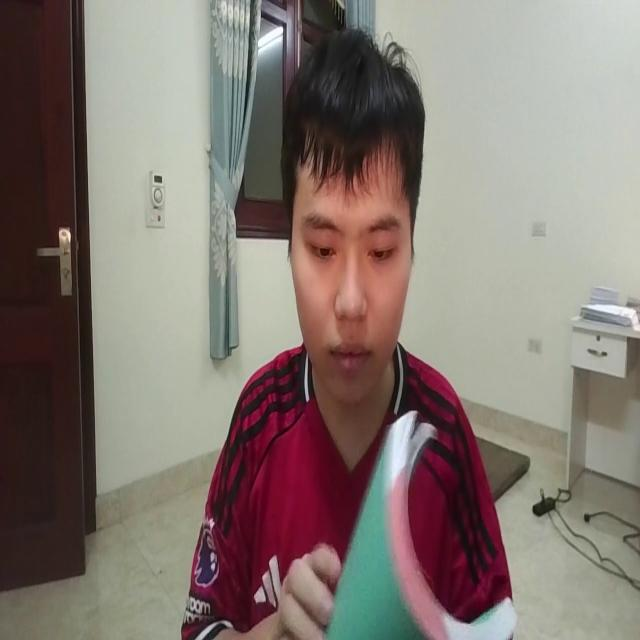book: (326, 409, 516, 640)
student: (179, 23, 517, 640)
